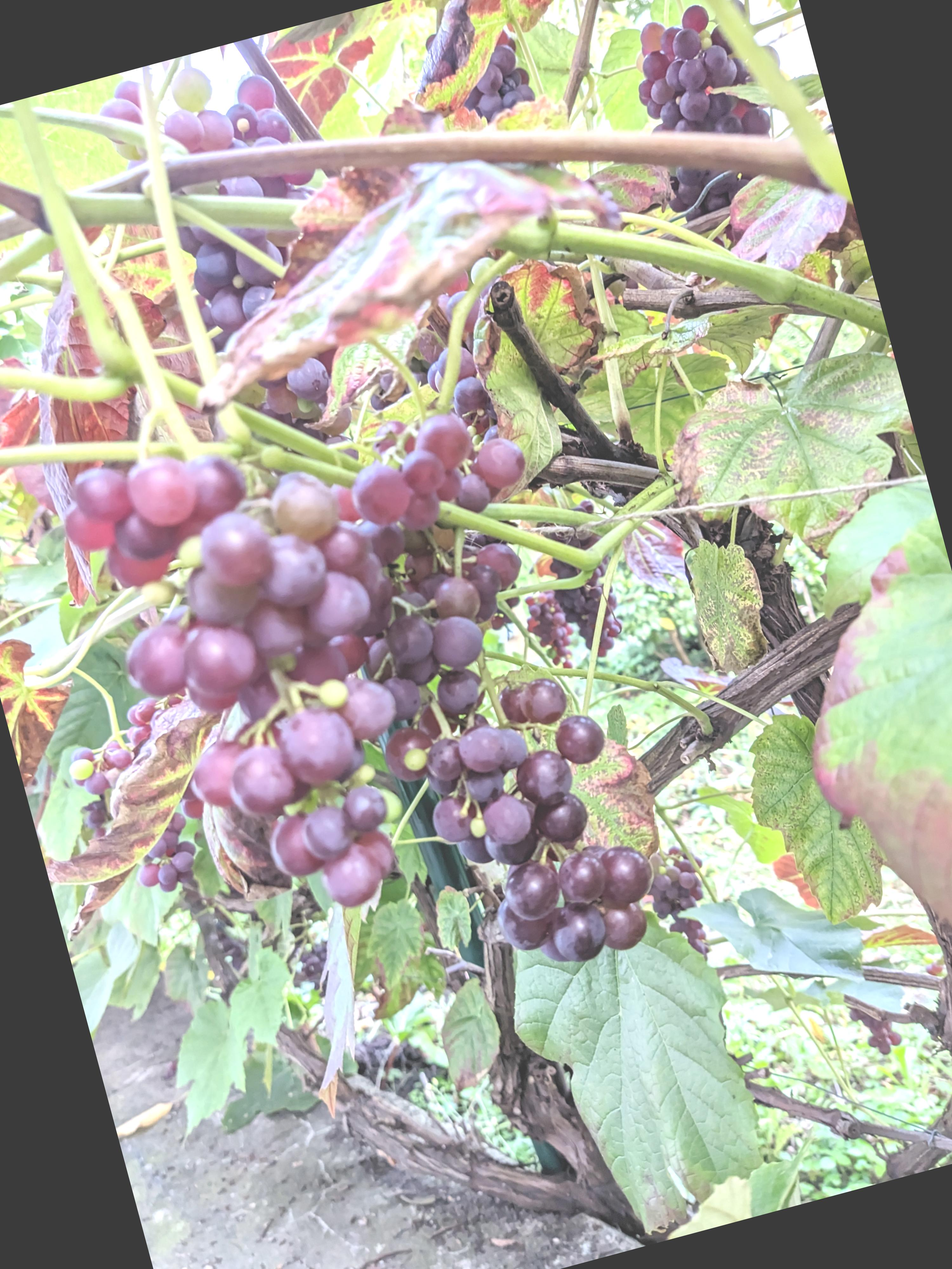Grape Unripe: (0, 490, 527, 1199), (0, 178, 236, 608), (481, 133, 651, 367), (256, 393, 402, 588), (390, 636, 493, 804), (278, 145, 398, 277), (0, 833, 74, 1046), (498, 976, 588, 1106), (378, 723, 444, 815)
